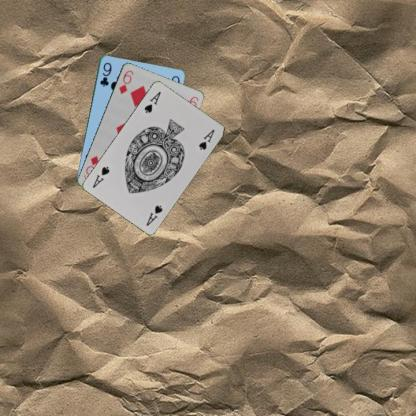6d: (116, 67, 135, 95)
9c: (97, 59, 113, 88)
As: (141, 88, 162, 114), (144, 202, 164, 227)
